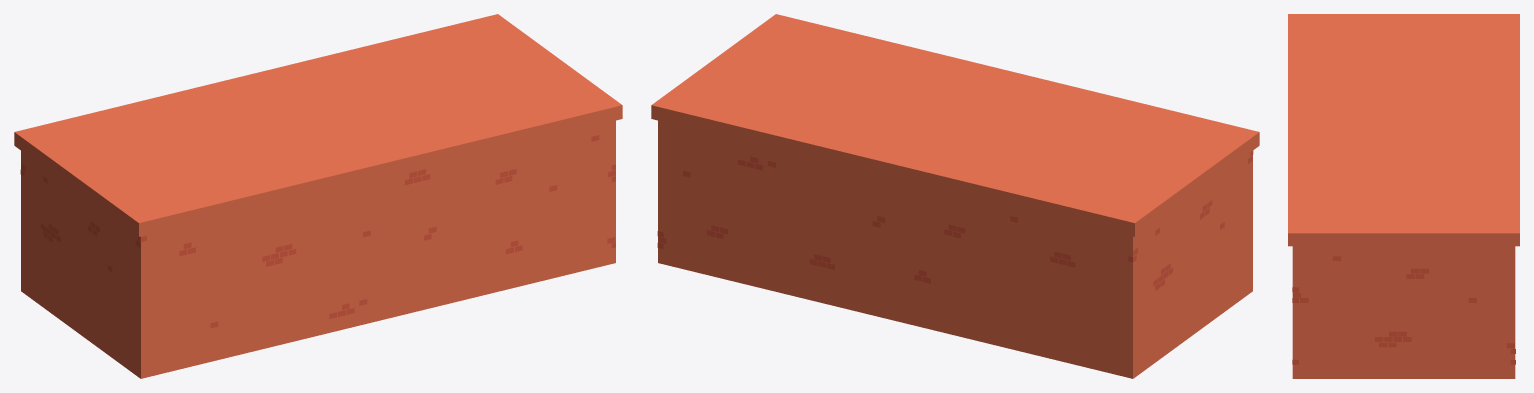
Rendered from House (foundation).fbx.
The picture shows the model from 3 angles, left to right: view 1: azimuth 30°, elevation 25°; view 2: azimuth 150°, elevation 25°; view 3: azimuth 270°, elevation 25°; orthographic projection. The views are drawn at different scales.
Visible parts, largest first — view 1: House (foundation); view 2: House (foundation); view 3: House (foundation).
Boxes of the visible parts, x1,y1,x2,y2 form: House (foundation): (14,14,622,378); House (foundation): (651,14,1259,378); House (foundation): (1288,14,1519,378).
Bounding box in the file's own units: 6737 × 2110 × 3007.
